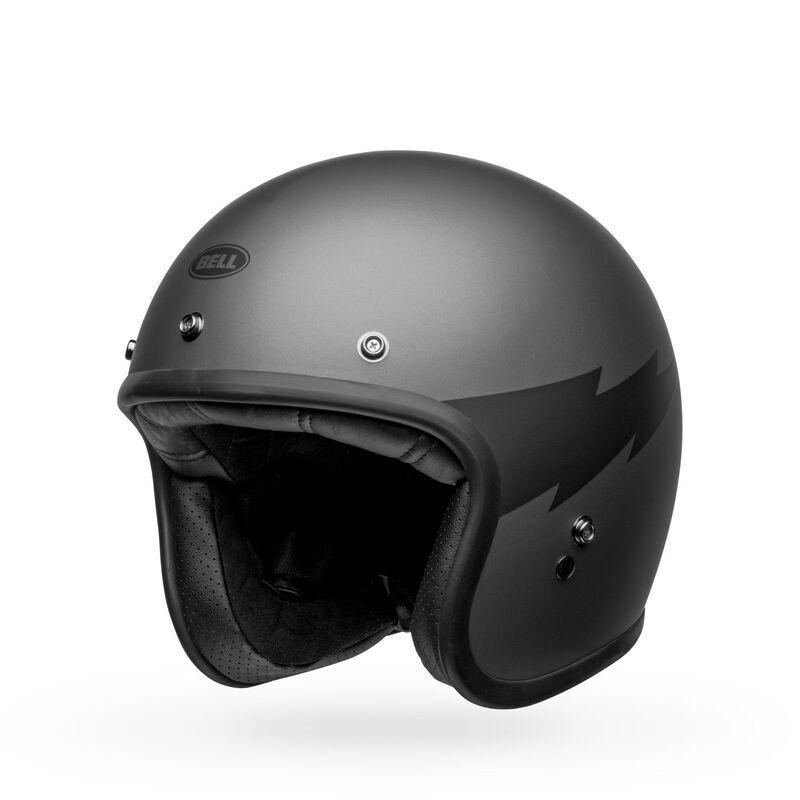helmet: (117, 147, 685, 711)
